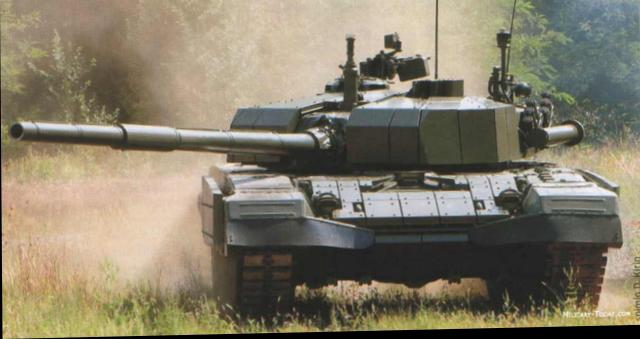tank: (188, 86, 638, 335)
